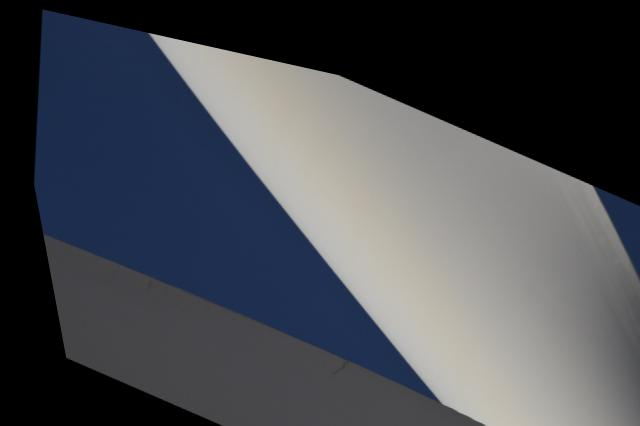damage: (313, 337, 342, 370)
